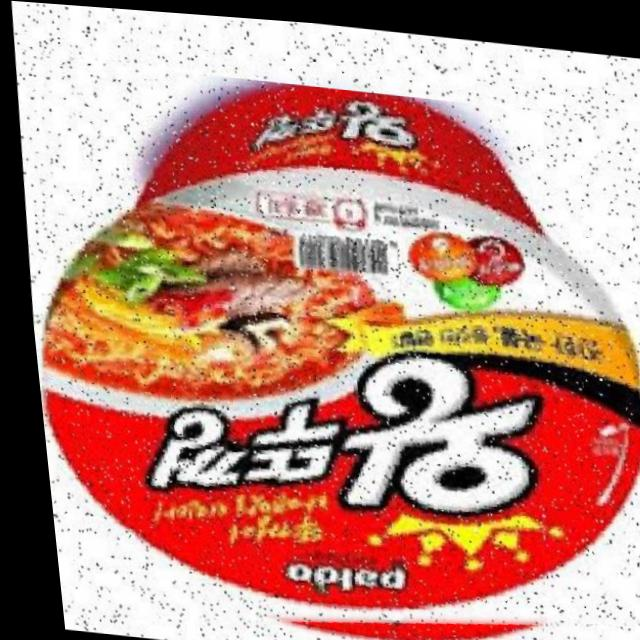Miscellaneous: (4, 53, 640, 640)
